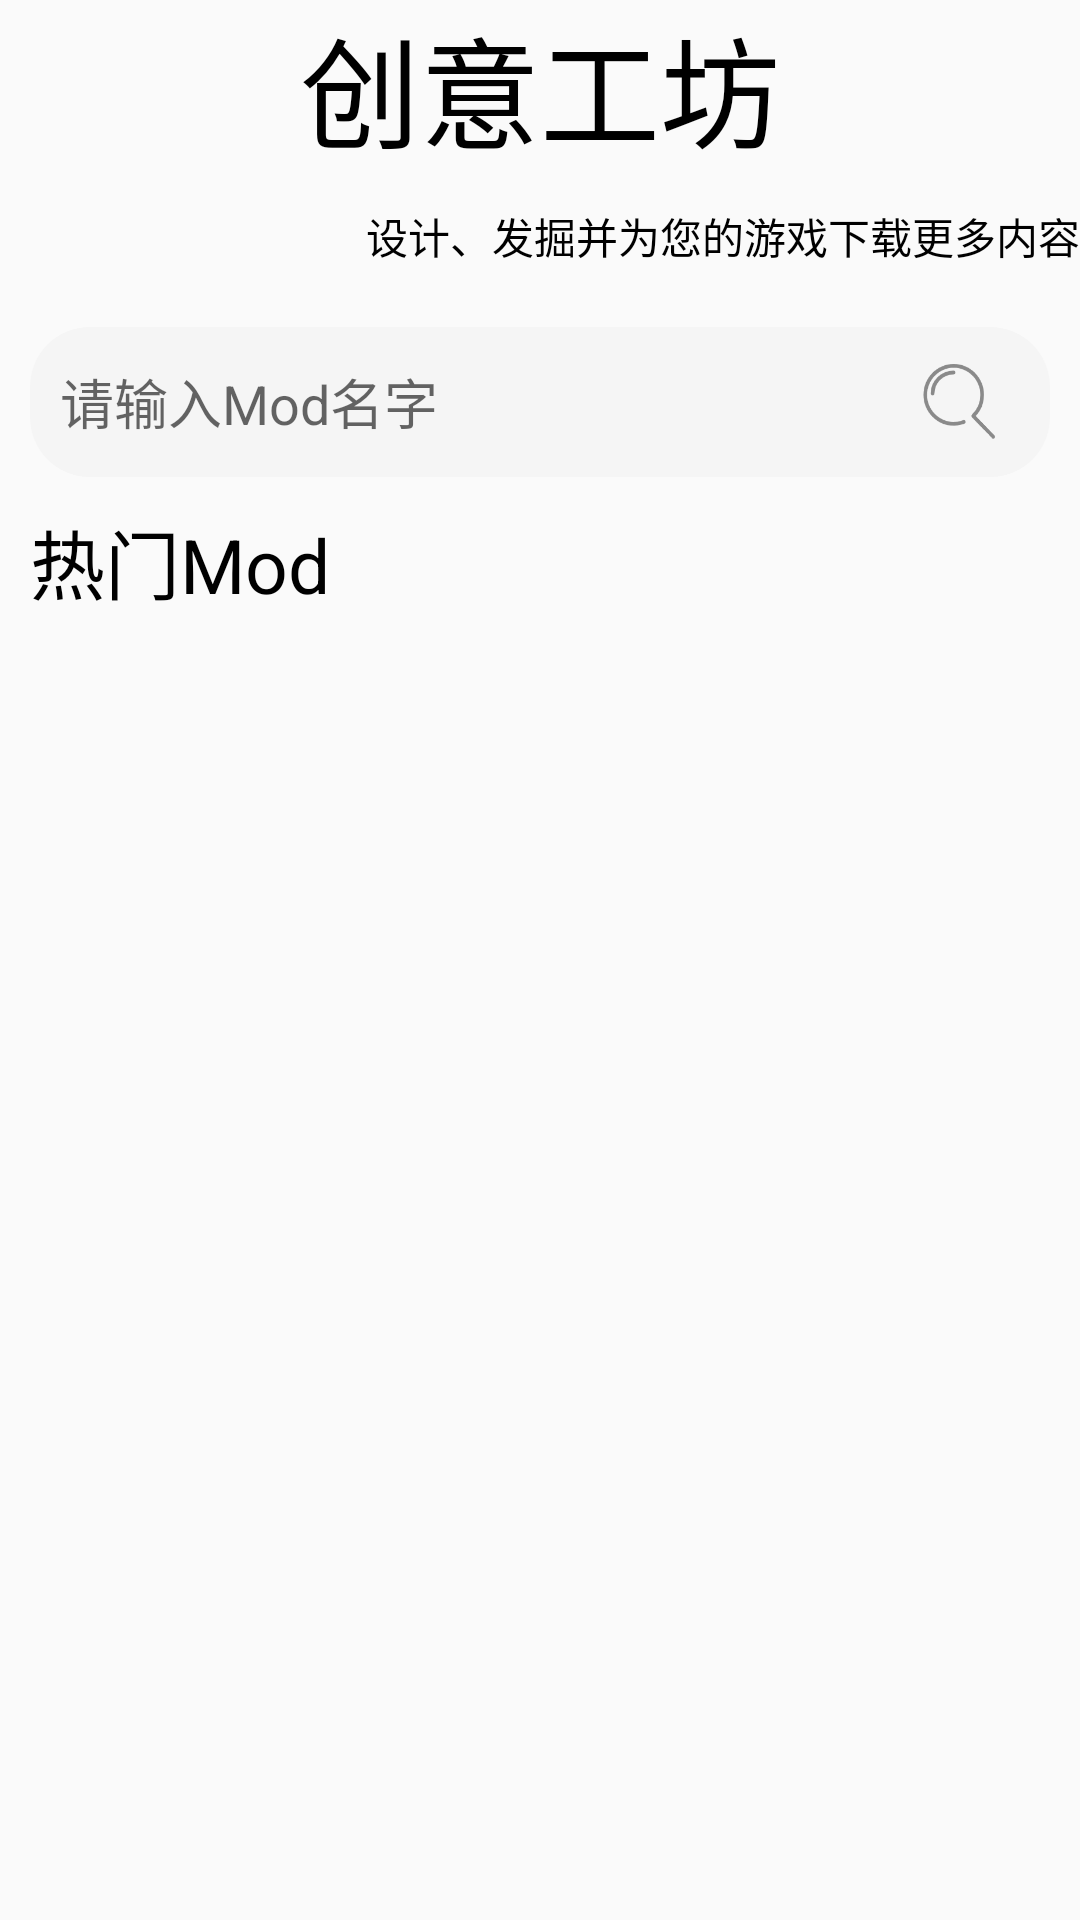

Icon bounding boxes for this 1080w x 1920h phone screenshot, format (left=x1, top=y1, right=x2, bottom=y2):
搜索: (left=923, top=364, right=995, bottom=439)
